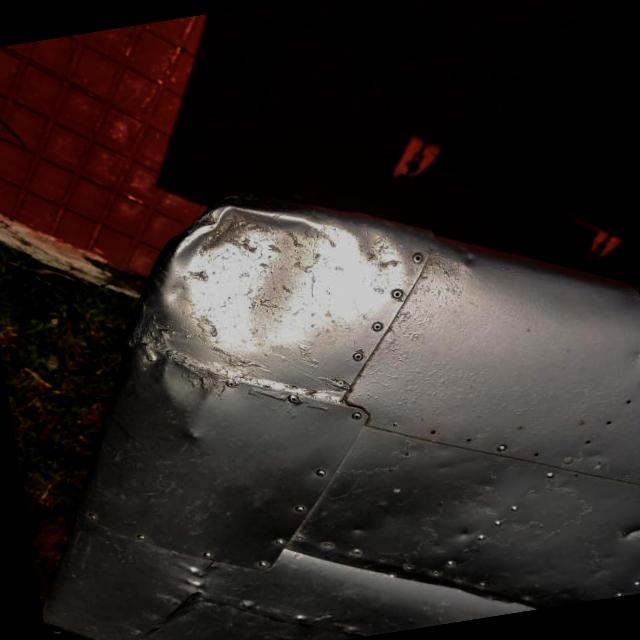dent: (140, 156, 374, 380)
